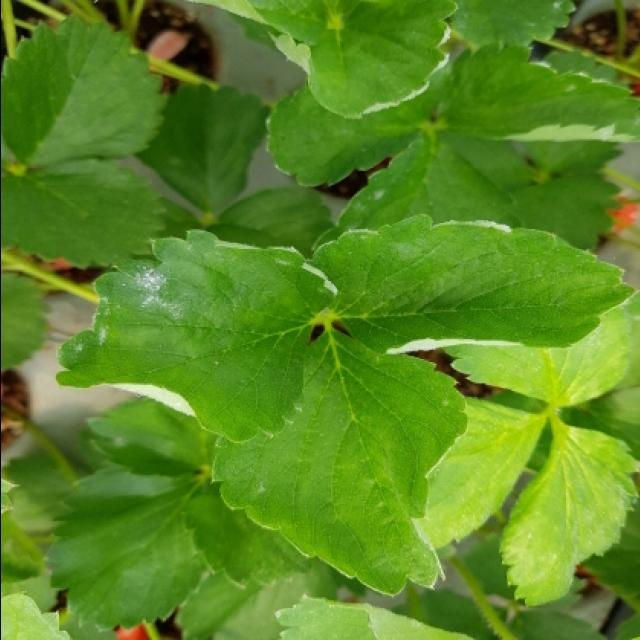Powdery Mildew Leaf: (211, 327, 469, 597), (52, 229, 338, 444), (310, 215, 637, 354), (313, 129, 522, 246), (266, 2, 457, 123), (428, 40, 640, 144)
